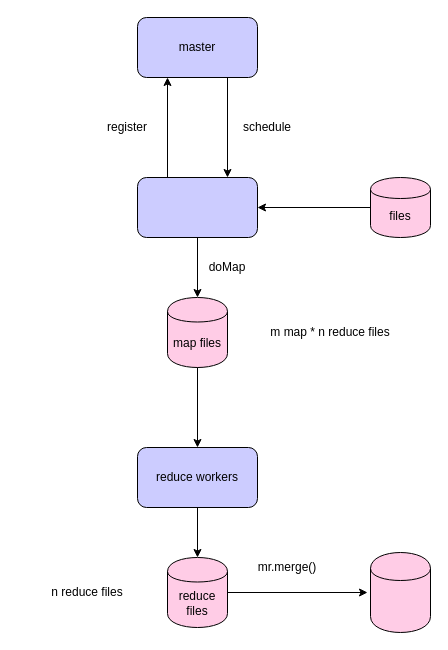
Some shapes in this 448 by 650 pixel diagram are drawn without their labels. Each missing label, with the centre of its shape:
"final result" goes at point (400, 592).
"map workers" goes at point (197, 207).
